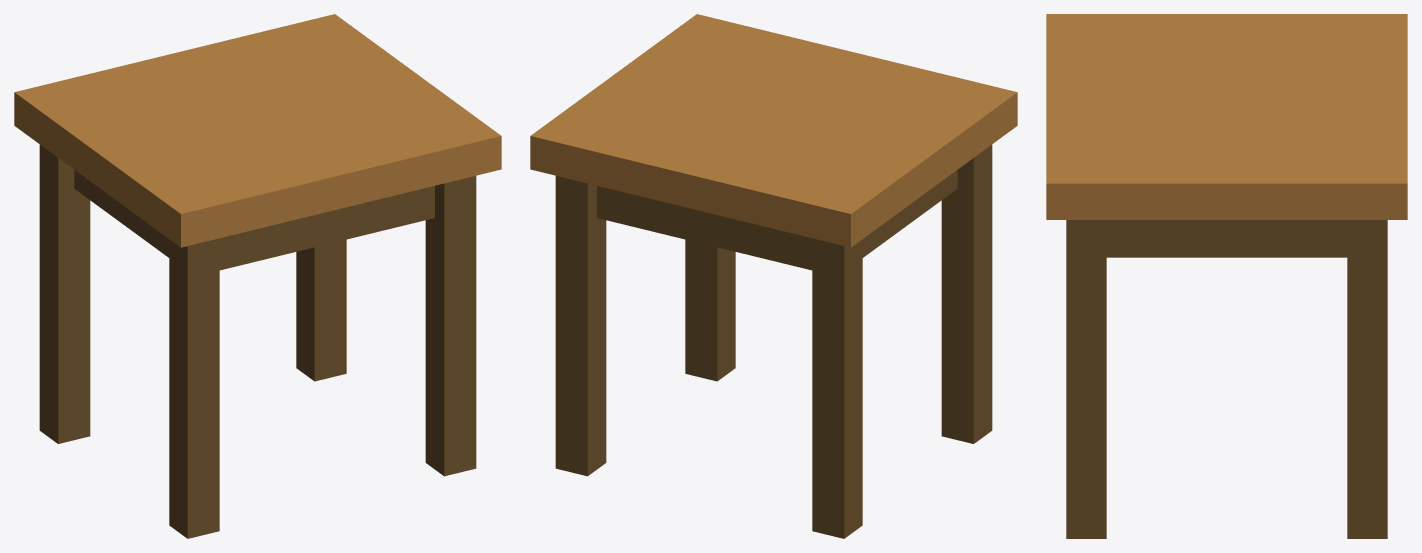
File: Table.fbx
3 renders of one model, left to right at view 1: azimuth 30°, elevation 25°; view 2: azimuth 150°, elevation 25°; view 3: azimuth 270°, elevation 25°, orthographic. The views are drawn at different scales.
Visible parts, largest first — view 1: Table; view 2: Table; view 3: Table.
Boxes of the visible parts, bbox=[...] form: Table: bbox=[14, 14, 501, 538]; Table: bbox=[530, 14, 1017, 538]; Table: bbox=[1046, 14, 1407, 538].
Size of the model in its own units: 200 by 200 by 180.
